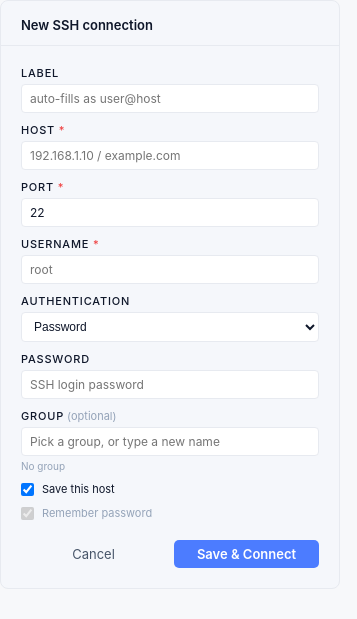
Test: HostForm › switches to dropdown picker at five keys after switching to key mode
Select "Key file…" in the dropdown labelled "Authentication" at coordinates (170, 327), box x1=21 y1=312 x2=319 y2=342
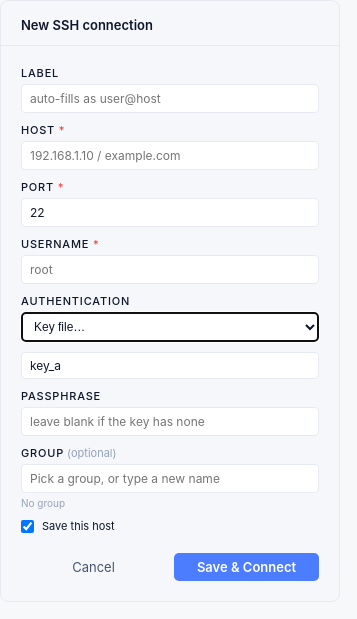
Result: the button "key_a" is shown at x1=21 y1=352 x2=319 y2=379
